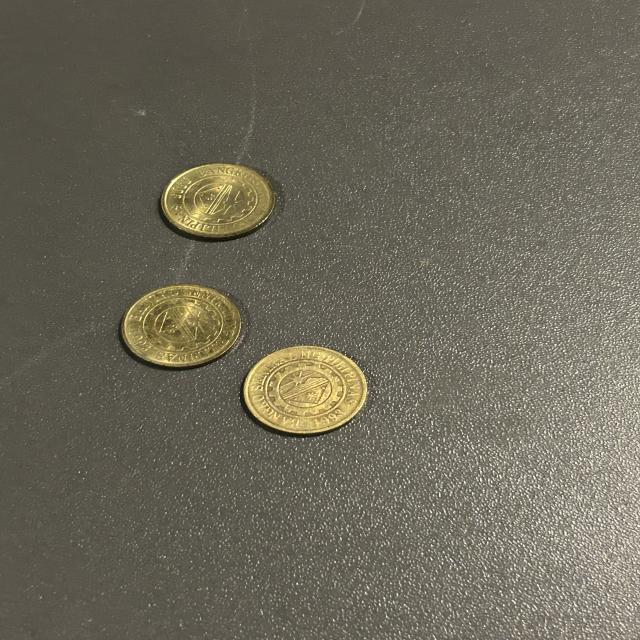25Cent_Old_Back: (165, 157, 274, 240)
